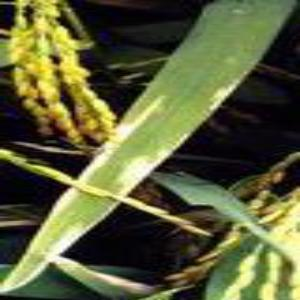2 BacterialBlight: (13, 172, 113, 288)
